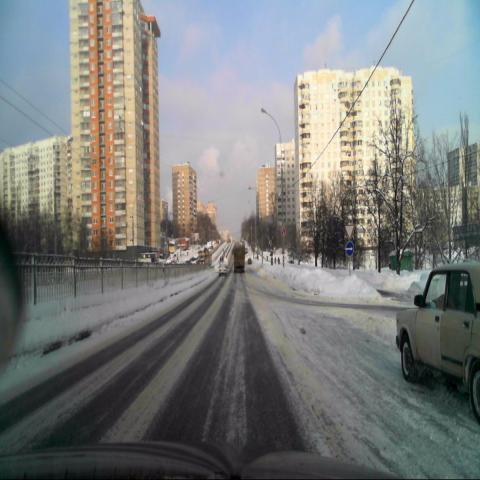2_4: (344, 223, 354, 241)
4_1_2_1: (345, 241, 354, 257)
